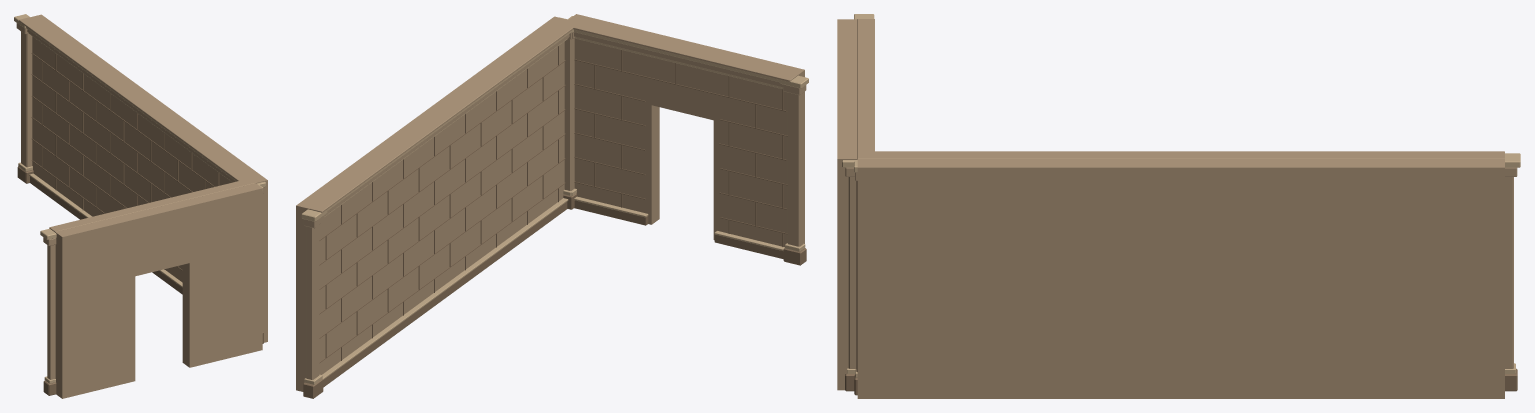
The model's file is mainb1_service_complete_shell.glb.
3 views of the same model, side by side, from view 1: azimuth 30°, elevation 25°; view 2: azimuth 150°, elevation 25°; view 3: azimuth 270°, elevation 25° (orthographic). The views are drawn at different scales.
Parts seen in each view (by area): view 1: mainb1_service_front_Wall_Solid_00, mainb1_service_right_Wall_Solid_00, mainb1_service_right_Wall_Cornice_00_3_0, mainb1_service_right_Masonry_Real_joint_mesh, Pilaster_Shaft_004, mainb1_service_front_Wall_Cornice_00_3_0, Pilaster_Shaft_009, mainb1_service_right_Wall_Cornice_00_1_0, mainb1_service_right_Wall_Skirting_00_0, mainb1_service_right_Wall_SkirtingBead_00_0, mainb1_service_right_Wall_Cornice_00_2_0, mainb1_service_right_Wall_Cornice_00_0_0; view 2: mainb1_service_right_Wall_Solid_00, mainb1_service_front_Wall_Solid_00, mainb1_service_right_Masonry_Real_joint_mesh, mainb1_service_right_Wall_Cornice_00_3_0, Pilaster_Shaft_009, mainb1_service_front_Masonry_Real_joint_mesh, Pilaster_Shaft_004, mainb1_service_front_Wall_Cornice_00_3_0, mainb1_service_right_Wall_Skirting_00_0, mainb1_service_right_Wall_SkirtingBead_00_0, Pilaster_Shaft_008, mainb1_service_front_Wall_Cornice_00_1_0 (+7 smaller); view 3: mainb1_service_right_Wall_Solid_00, mainb1_service_front_Wall_Solid_00, mainb1_service_right_Wall_Cornice_00_3_0, mainb1_service_front_Wall_Cornice_00_3_0, Pilaster_Shaft_004, Pilaster_Shaft_005.
Boxes of the visible parts, x1,y1,x2,y2 form: mainb1_service_front_Wall_Solid_00: (55, 183, 262, 398); mainb1_service_right_Wall_Solid_00: (30, 14, 267, 342); mainb1_service_right_Wall_Cornice_00_3_0: (19, 17, 253, 183); mainb1_service_right_Masonry_Real_joint_mesh: (31, 53, 219, 270); Pilaster_Shaft_004: (21, 31, 32, 167); mainb1_service_front_Wall_Cornice_00_3_0: (49, 178, 255, 232); Pilaster_Shaft_009: (47, 244, 55, 379); mainb1_service_right_Wall_Cornice_00_1_0: (27, 29, 235, 182); mainb1_service_right_Wall_Skirting_00_0: (30, 176, 182, 294); mainb1_service_right_Wall_SkirtingBead_00_0: (29, 173, 182, 287); mainb1_service_right_Wall_Cornice_00_2_0: (26, 27, 236, 181); mainb1_service_right_Wall_Cornice_00_0_0: (29, 33, 232, 182); mainb1_service_right_Wall_Solid_00: (296, 16, 567, 391); mainb1_service_front_Wall_Solid_00: (569, 14, 804, 247); mainb1_service_right_Masonry_Real_joint_mesh: (319, 46, 565, 363); mainb1_service_right_Wall_Cornice_00_3_0: (310, 20, 579, 212); Pilaster_Shaft_009: (787, 92, 803, 246); mainb1_service_front_Masonry_Real_joint_mesh: (574, 50, 787, 246); Pilaster_Shaft_004: (306, 225, 319, 379); mainb1_service_front_Wall_Cornice_00_3_0: (562, 19, 796, 81); mainb1_service_right_Wall_Skirting_00_0: (323, 201, 567, 387); mainb1_service_right_Wall_SkirtingBead_00_0: (322, 198, 568, 379); Pilaster_Shaft_008: (564, 39, 571, 190); mainb1_service_front_Wall_Cornice_00_1_0: (574, 32, 783, 87); mainb1_service_right_Wall_Solid_00: (857, 159, 1504, 398); mainb1_service_front_Wall_Solid_00: (837, 19, 857, 390); mainb1_service_right_Wall_Cornice_00_3_0: (858, 151, 1504, 158); mainb1_service_front_Wall_Cornice_00_3_0: (857, 19, 874, 158); Pilaster_Shaft_004: (1505, 177, 1513, 368); Pilaster_Shaft_005: (848, 177, 856, 368).
Bounding box in the file's own units: 5.1 × 3.56 × 9.5.
